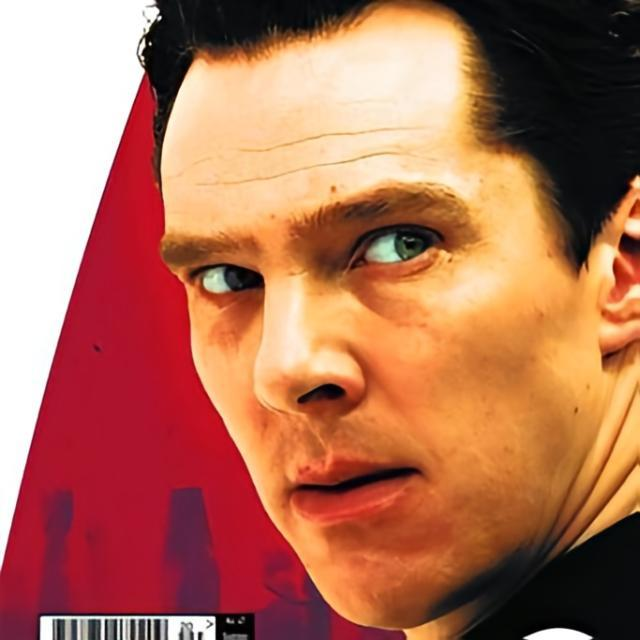surprise: (156, 0, 608, 631)
